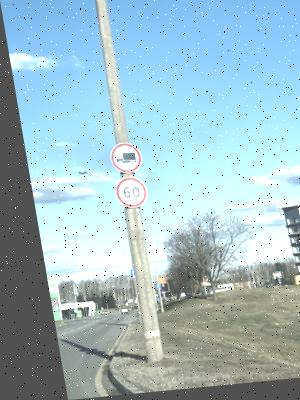Speed Limit -60-: (105, 177, 141, 210)
